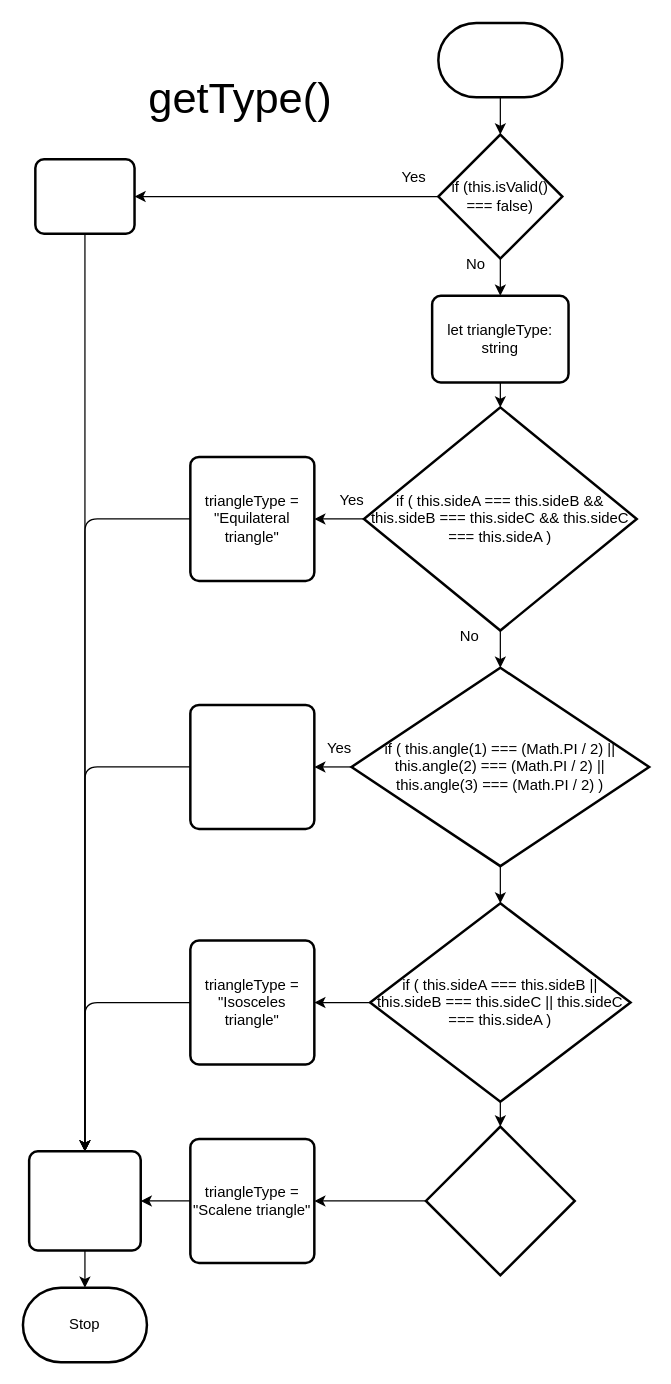
Image size: 671x1384. Some labels were removed from this diagram. Here are the shapes that lost their labels. From the top down, the box of each, then its label:
(436, 21, 563, 98): Start
(33, 157, 135, 234): return -1
(188, 703, 315, 830): triangleType = "Right angle triangle"
(27, 1149, 141, 1251): return triangleType
(424, 1125, 575, 1276): if (this.sideA != this.sideB != this.sideC)
